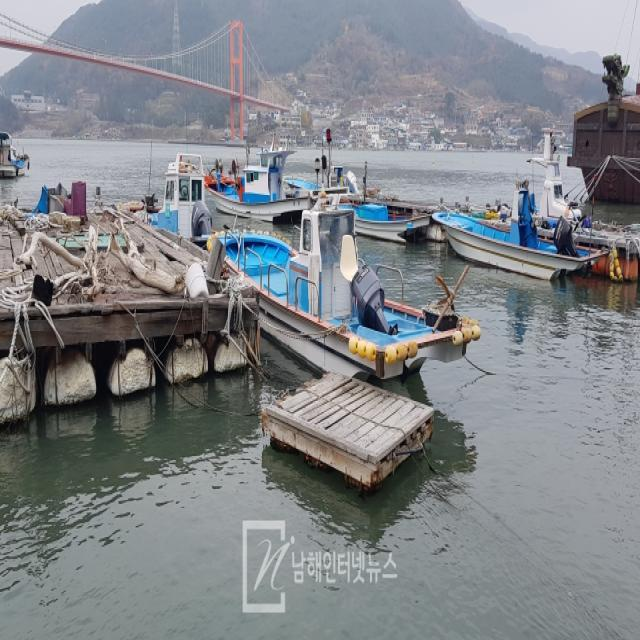Ship: (207, 182, 483, 395), (432, 123, 616, 302), (206, 118, 328, 238)
